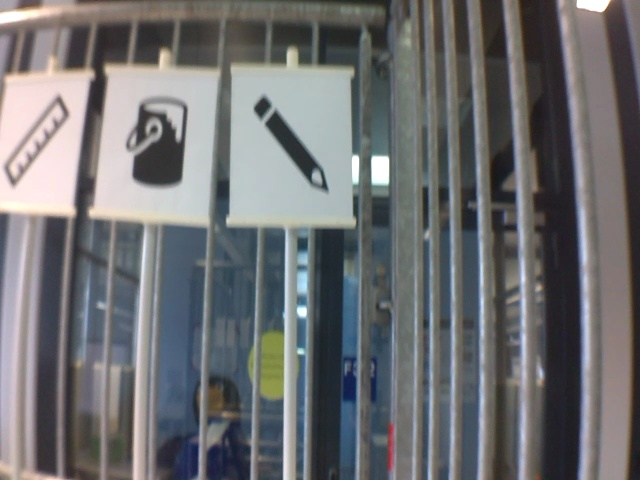bucket: (121, 93, 192, 194)
pencil: (246, 91, 332, 195)
ruler: (4, 92, 74, 192)
